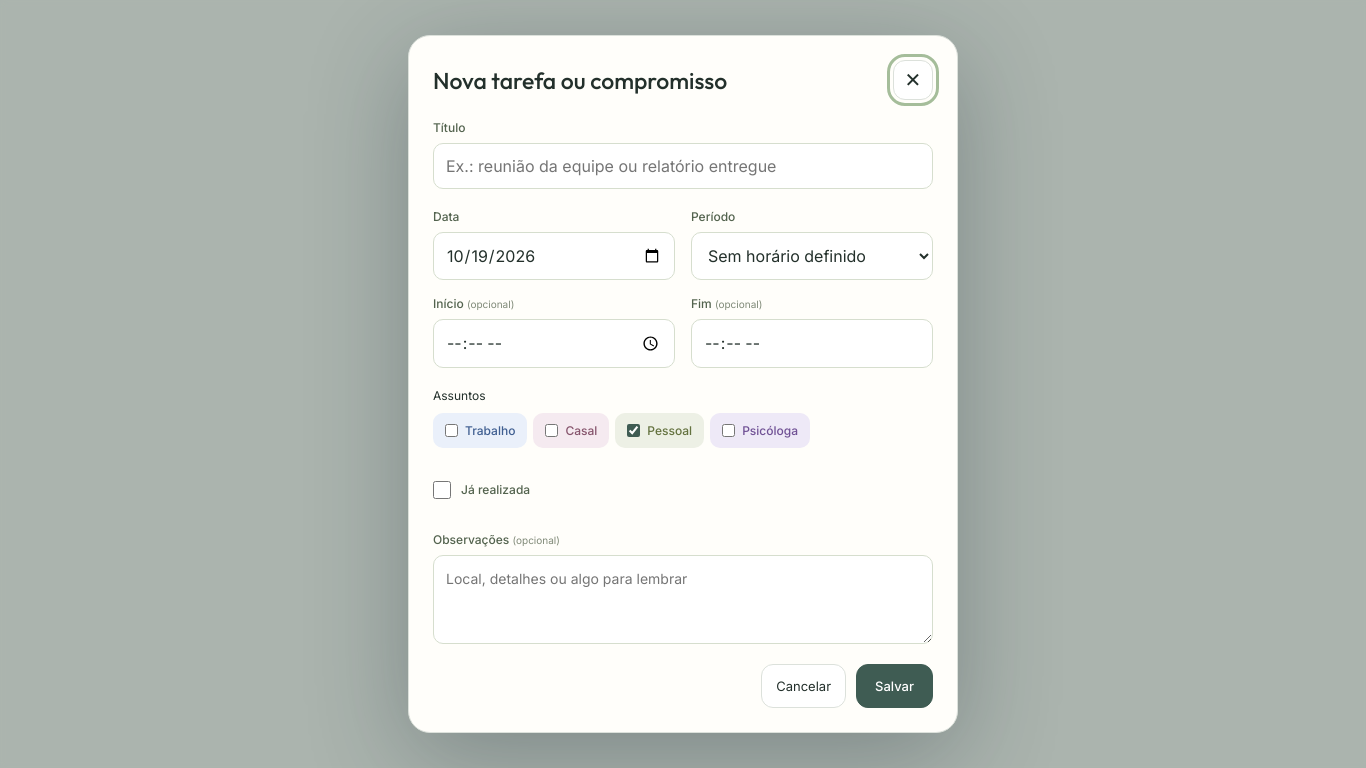
Test: preserva o formulário quando a rede falha e permite novo envio
Step 1. Type "Jantar em casal" into the field labelled "Título" → [683, 166], box [433,143,933,189]
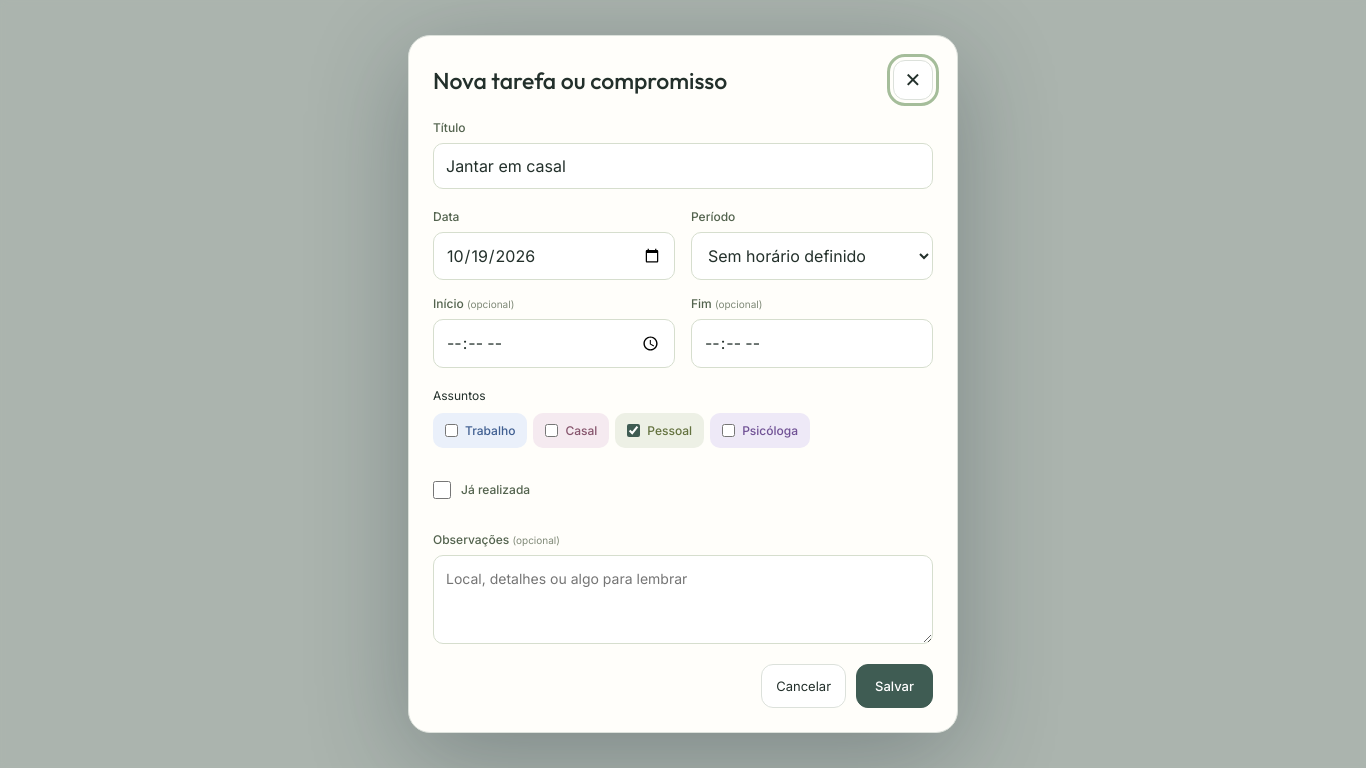
Step 2. Click the button "Salvar" → [894, 686], box [856,664,933,708]
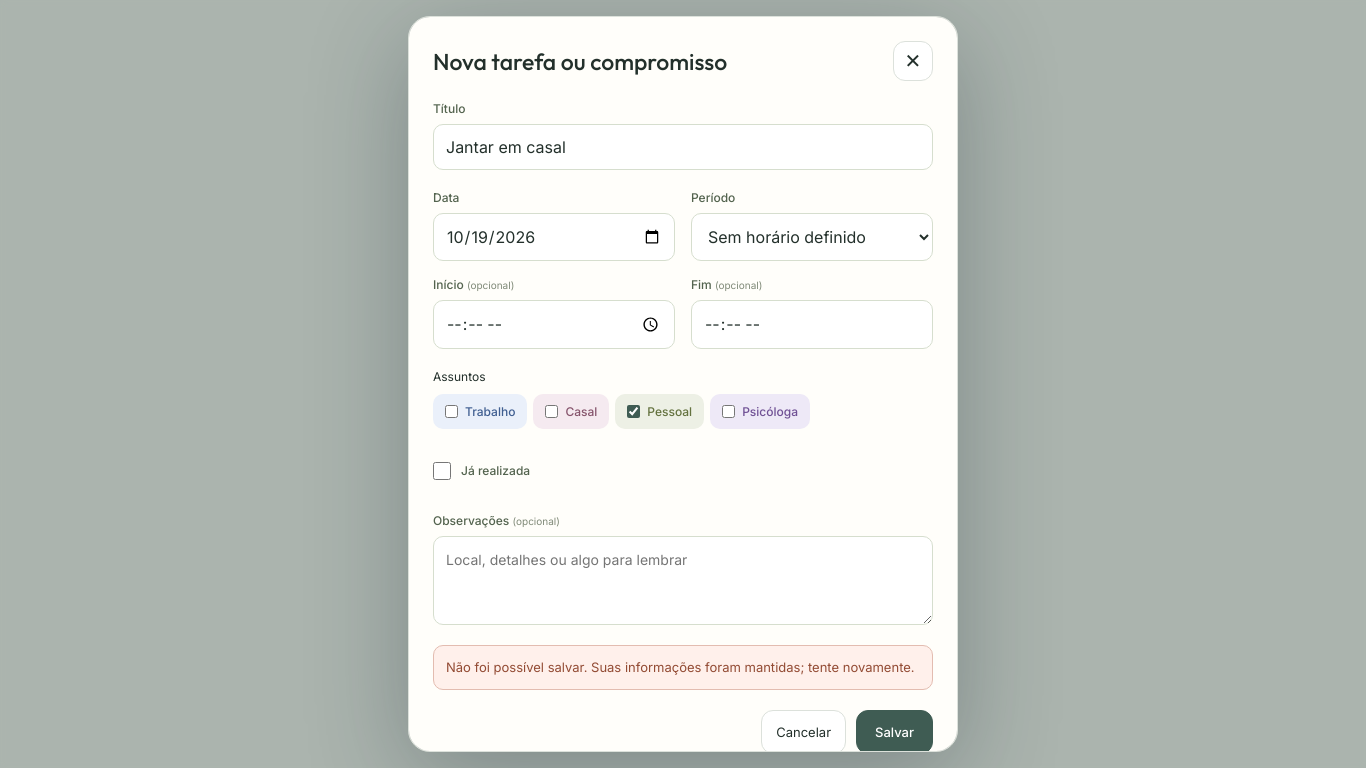
Expected: the button "Salvar" is enabled, [856,710,933,752]
Expected: the message shows "informações foram mantidas", [446,659,915,675]
